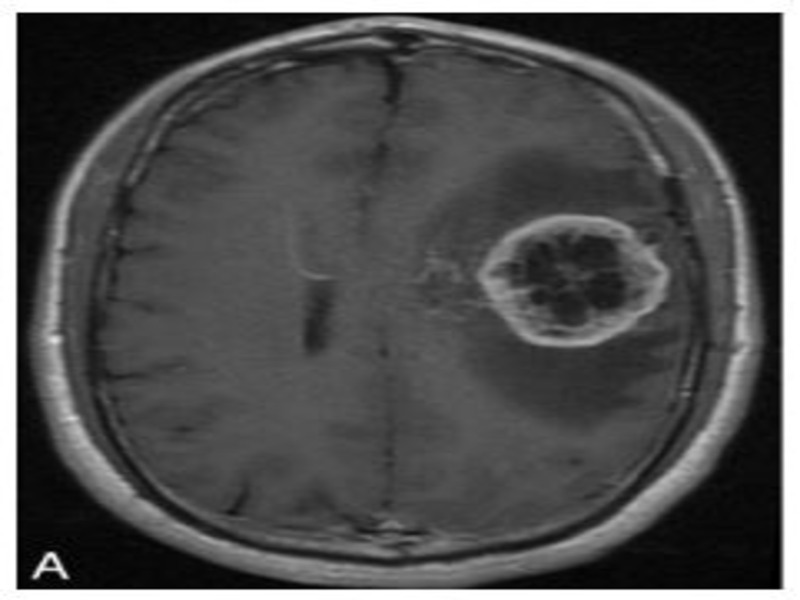tumor: (471, 205, 676, 358)
